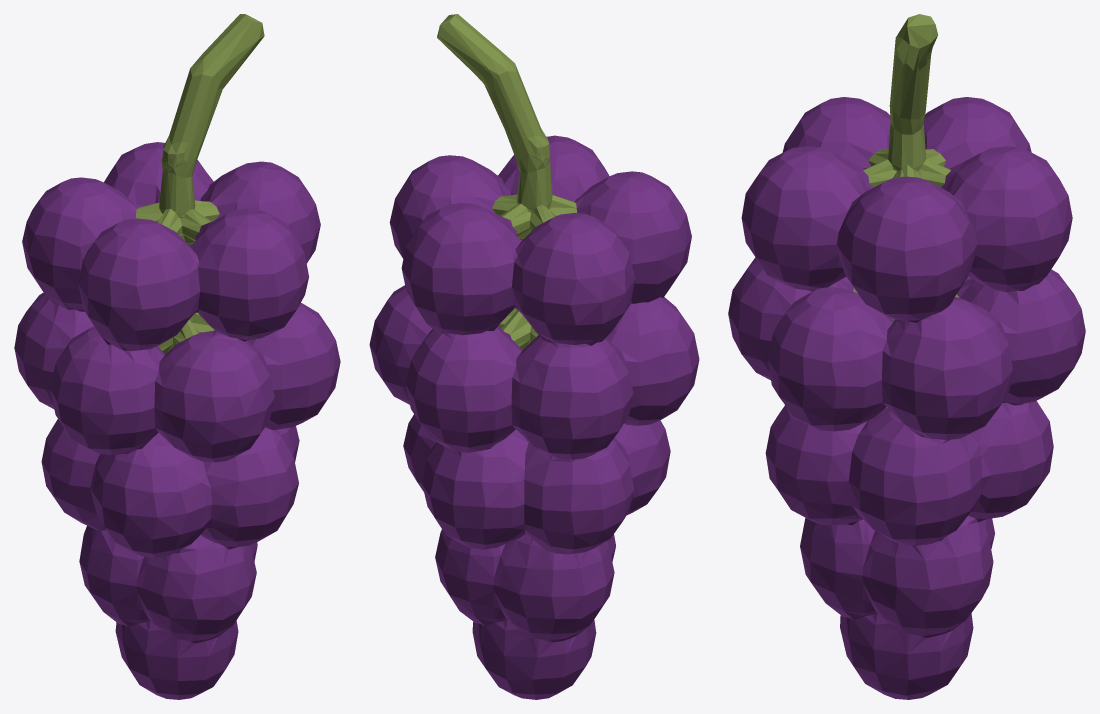
The model's file is NEW_RECOVERY_003_LOD1.fbx.
3 views of the same model, side by side, from view 1: azimuth 30°, elevation 25°; view 2: azimuth 150°, elevation 25°; view 3: azimuth 270°, elevation 25° (orthographic). The views are drawn at different scales.
Visible parts, largest first — view 1: NEW_RECOVERY_003_LOD1; view 2: NEW_RECOVERY_003_LOD1; view 3: NEW_RECOVERY_003_LOD1.
Boxes of the visible parts, bbox=[...] form: NEW_RECOVERY_003_LOD1: bbox=[14, 14, 340, 699]; NEW_RECOVERY_003_LOD1: bbox=[369, 14, 699, 699]; NEW_RECOVERY_003_LOD1: bbox=[728, 14, 1085, 699].
Bounding box in the file's own units: 14.35 × 14.77 × 32.75.
